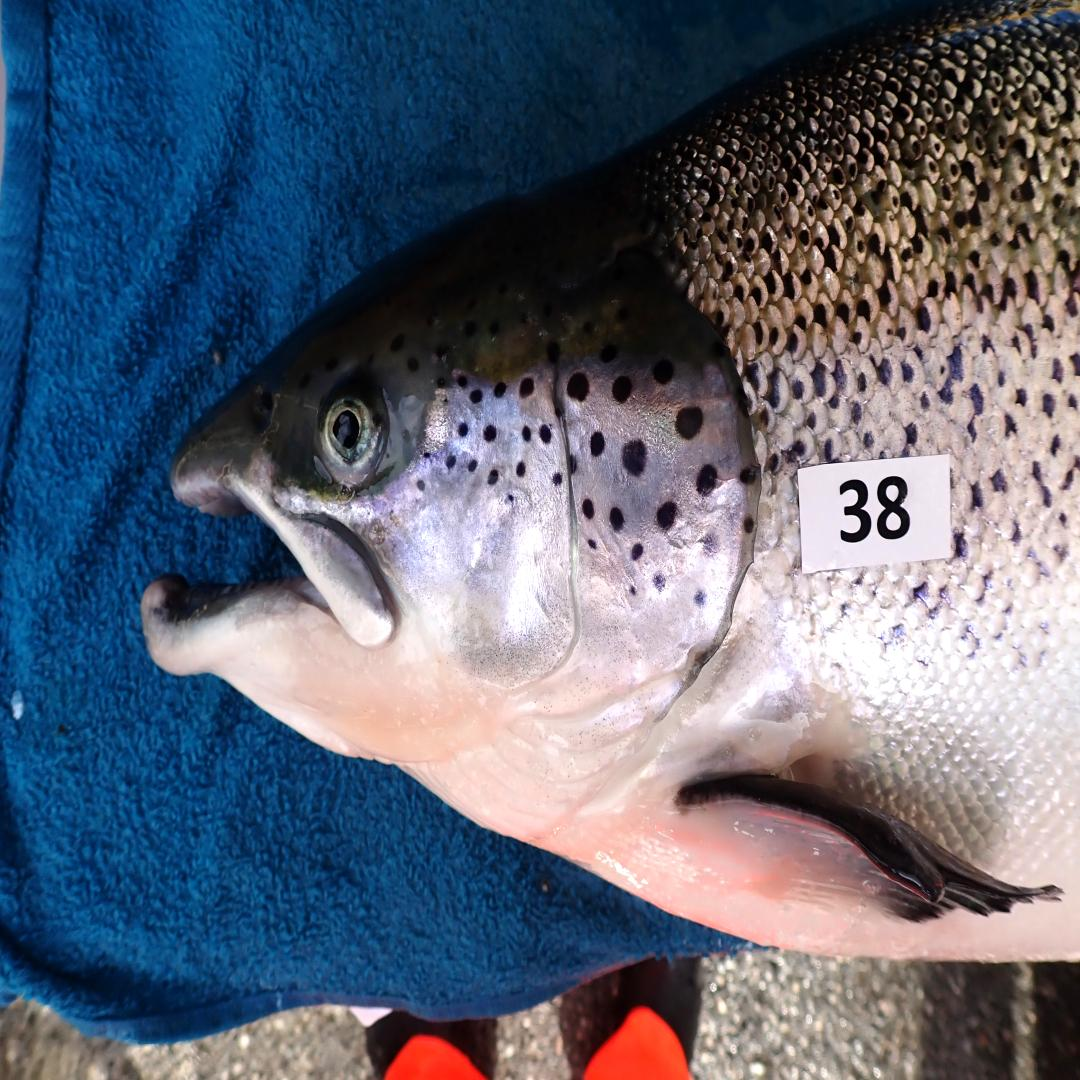roi: (391, 357, 753, 843)
